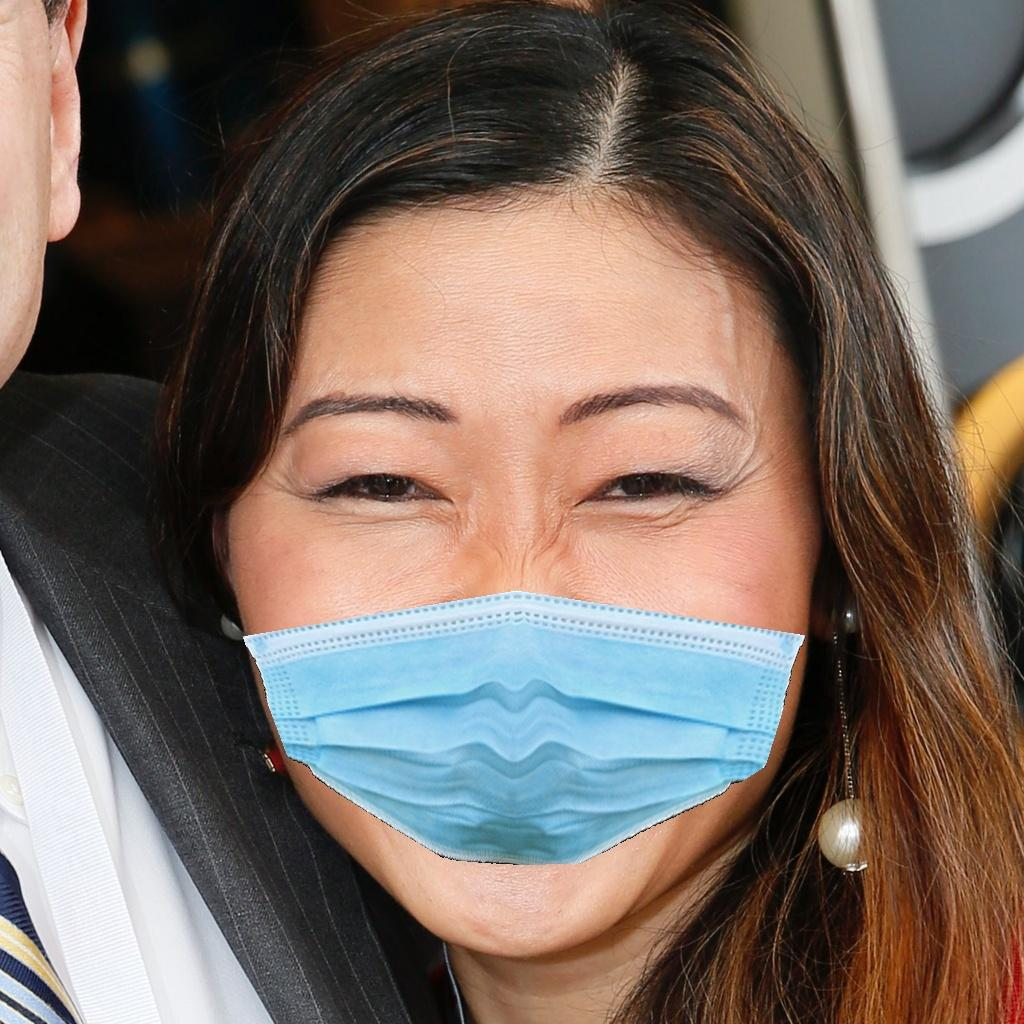Com Máscara: (240, 235, 804, 919)
